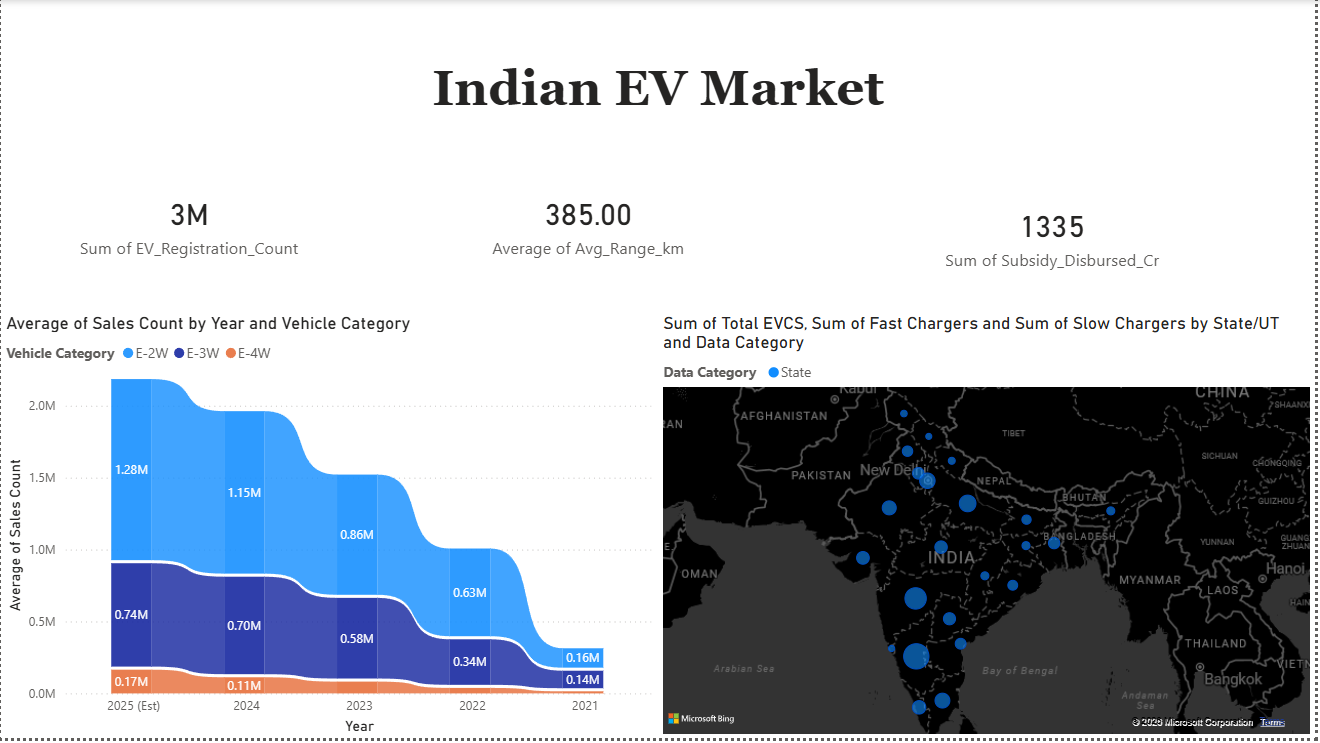

What the dashboard file says about the page in this screenshot:
{"tool":"powerbi","page":{"name":"Page 1","canvas":[1280,720],"ordinal":0},"visuals":[{"type":"map","fields":{"Category":["Sheet1.State/UT"],"Series":["Sheet1.Data Category (For Power BI)"],"Size":["Sum(Sheet1.Total EVCS)"]},"box":[640.5,305.5,640.5,415],"z":0},{"type":"card","fields":{"Values":["Sum(Sheet1 (3).EV_Registration_Count)"]},"box":[0,130.6,366.6,174.9],"z":1000},{"type":"card","fields":{"Values":["Avg(Sheet1 (3).Avg_Range_km)"]},"box":[377.1,130.6,389.8,174.9],"z":2000},{"type":"card","fields":{"Values":["Sum(Sheet1 (3).Subsidy_Disbursed_Cr)"]},"box":[766.9,153.8,514.1,151.7],"z":3000},{"type":"ribbonChart","fields":{"Category":["Sheet1 (5).Year"],"Y":["Avg(Sheet1 (5).Sales Count)"],"Series":["Sheet1 (5).Vehicle Category"]},"box":[0,305.5,640.5,415],"z":4000},{"type":"textbox","box":[0,0,1281,130.6],"z":5000}]}

Visuals, with their boxes in screenshot pixels (x1, y1, x2, y2), scaled from the page's 1280x720 canvas onto the 1320x743 screenshot:
map - Sheet1.State/UT x Sheet1.Data Category (For Power BI): [661,315,1319,742]
card - Sum(Sheet1 (3).EV_Registration_Count): [0,135,378,315]
card - Avg(Sheet1 (3).Avg_Range_km): [389,135,791,315]
card - Sum(Sheet1 (3).Subsidy_Disbursed_Cr): [791,159,1319,315]
ribbonChart - Sheet1 (5).Year x Avg(Sheet1 (5).Sales Count): [0,315,661,742]
textbox: [0,0,1319,135]
